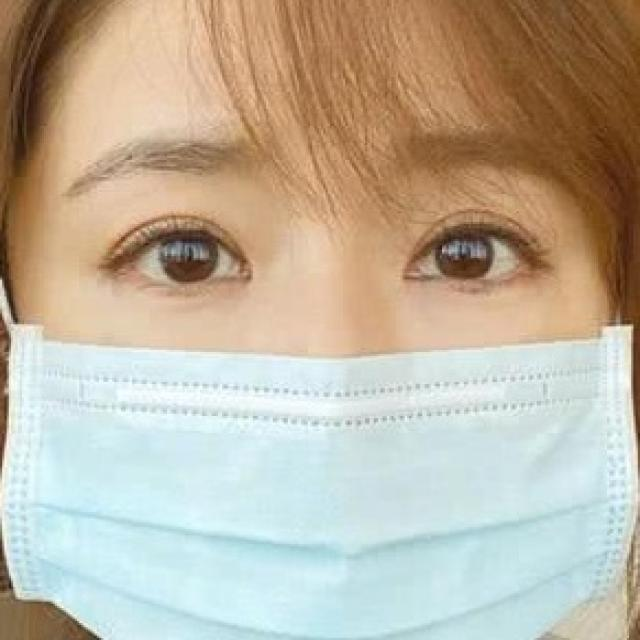mask: (0, 73, 640, 627)
